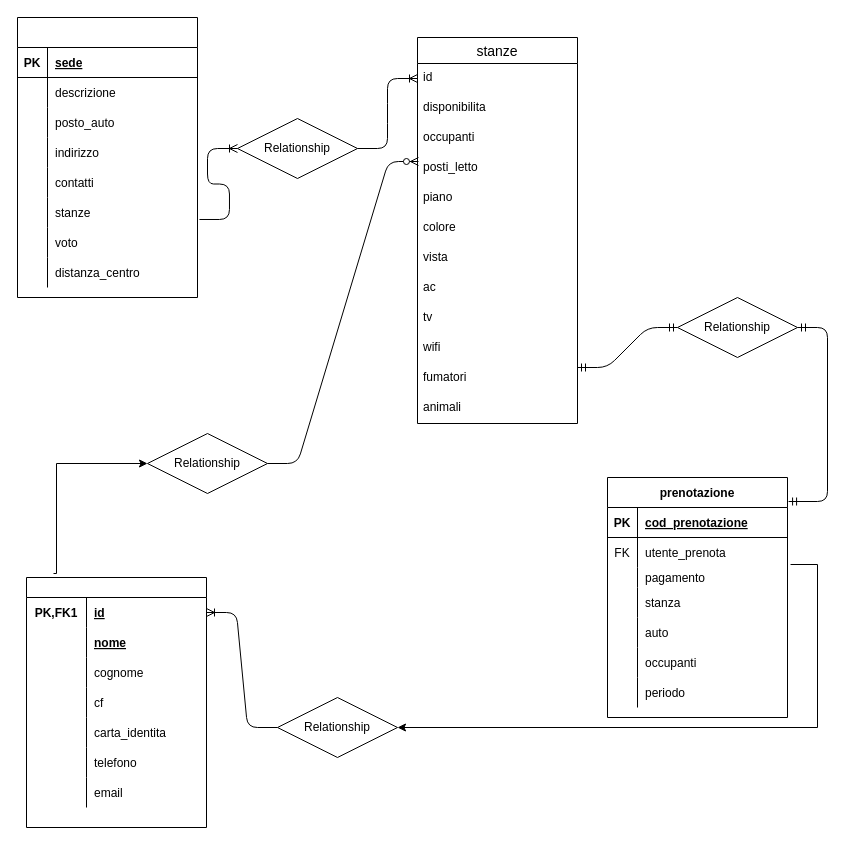
The diagram is 854 pixels wide and 845 high, and some of its shapes have lost their labels. Each missing label, with the box of its shape:
hotel: (16, 16, 198, 298)
ospiti: (26, 576, 206, 828)
